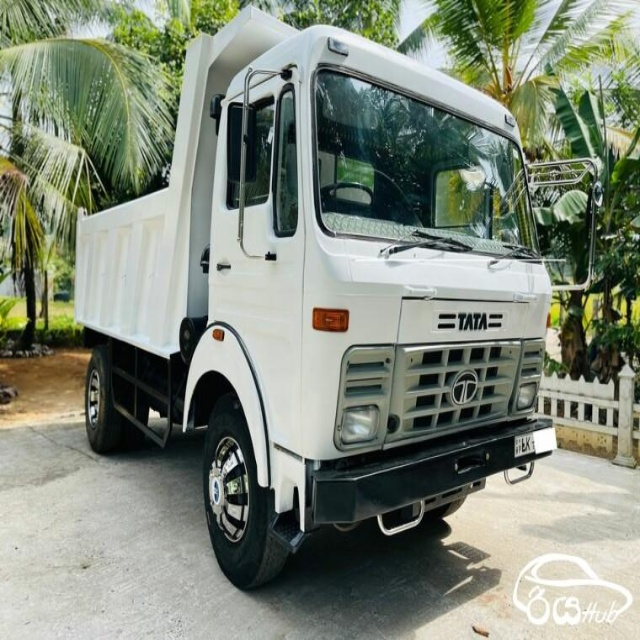Truck: (74, 4, 557, 593)
